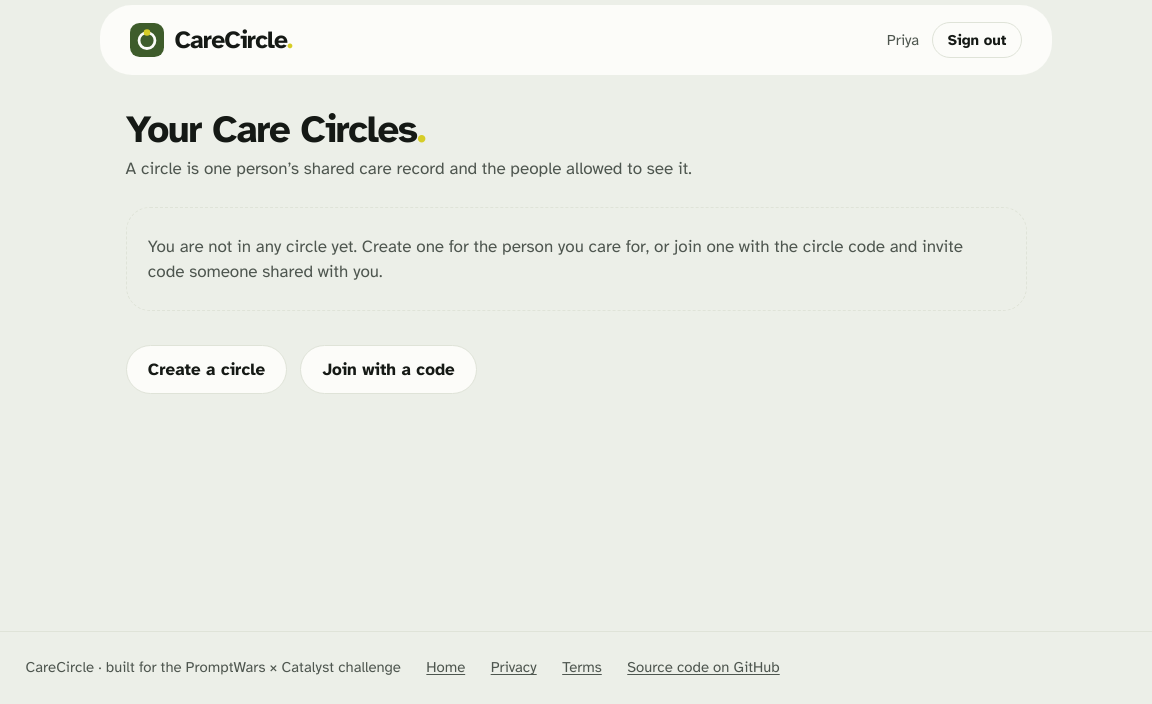
Your Care Circles › a refused join shows the reason and stays on the page
The image size is (1152, 704).
Click the button "Join with a code": (389, 369) [300,345,477,394]
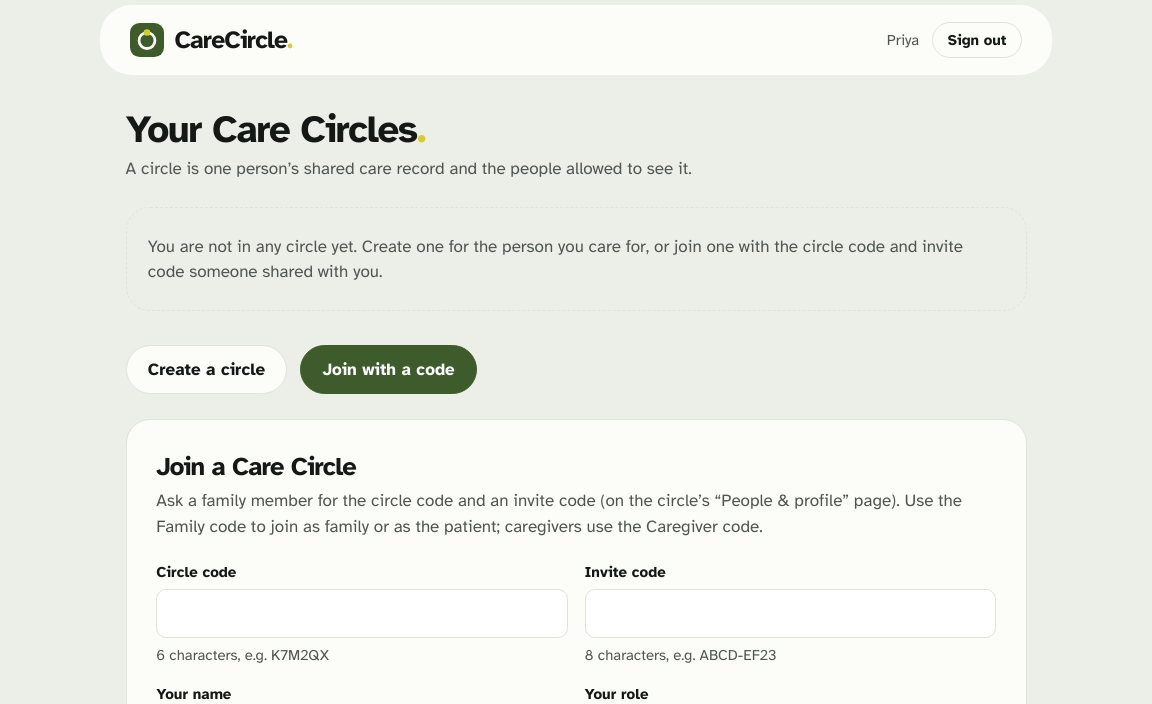
In the field labelled "Circle code": (362, 614) [156,589,568,638], type "X"
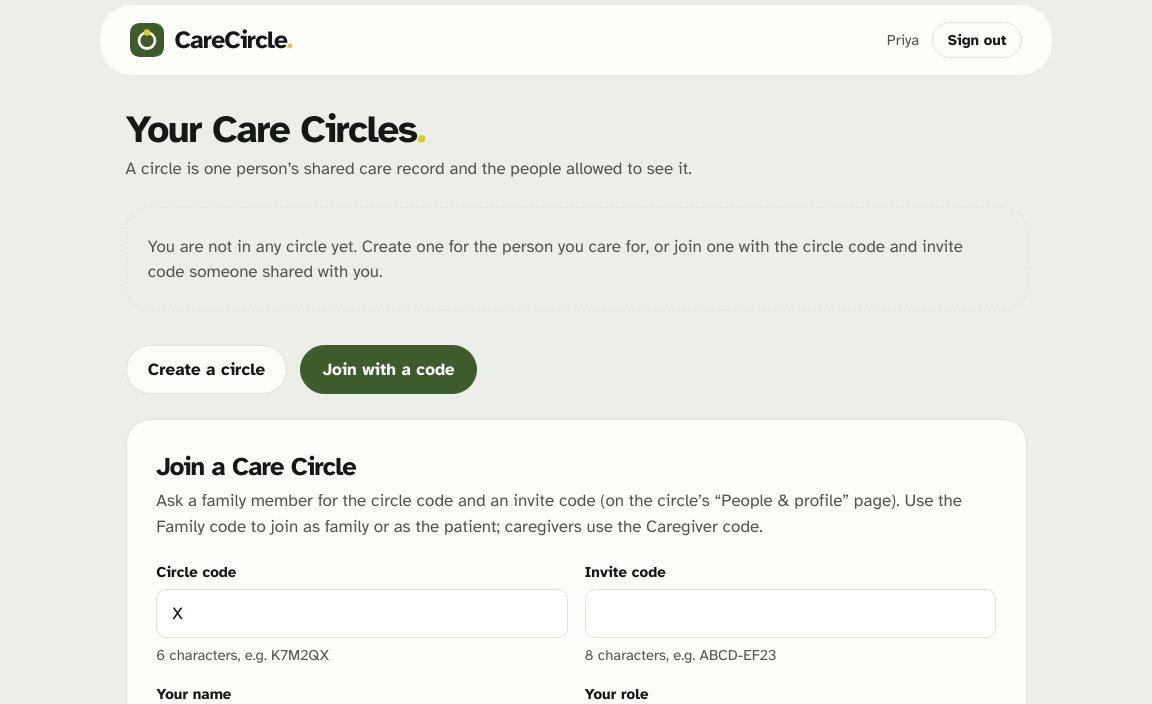
In the field labelled "Invite code": (790, 614) [584,589,996,638], type "Y"
(page scrolled)
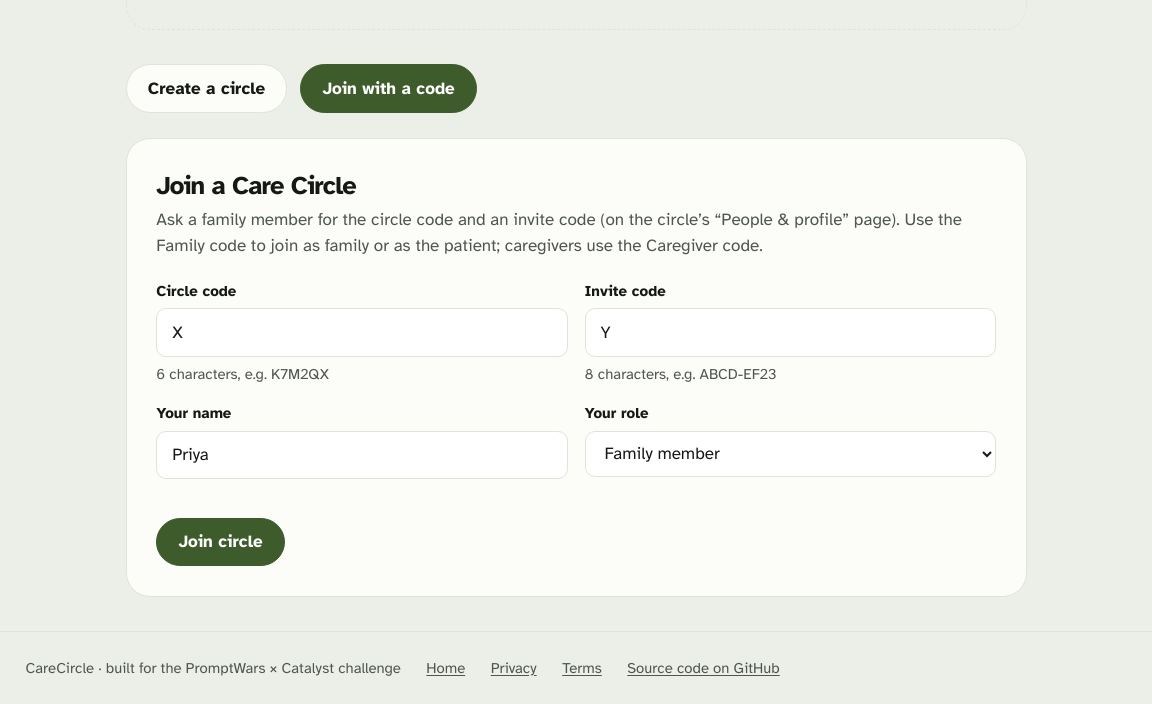
Click the button "Join circle": (221, 542) [156,518,285,566]
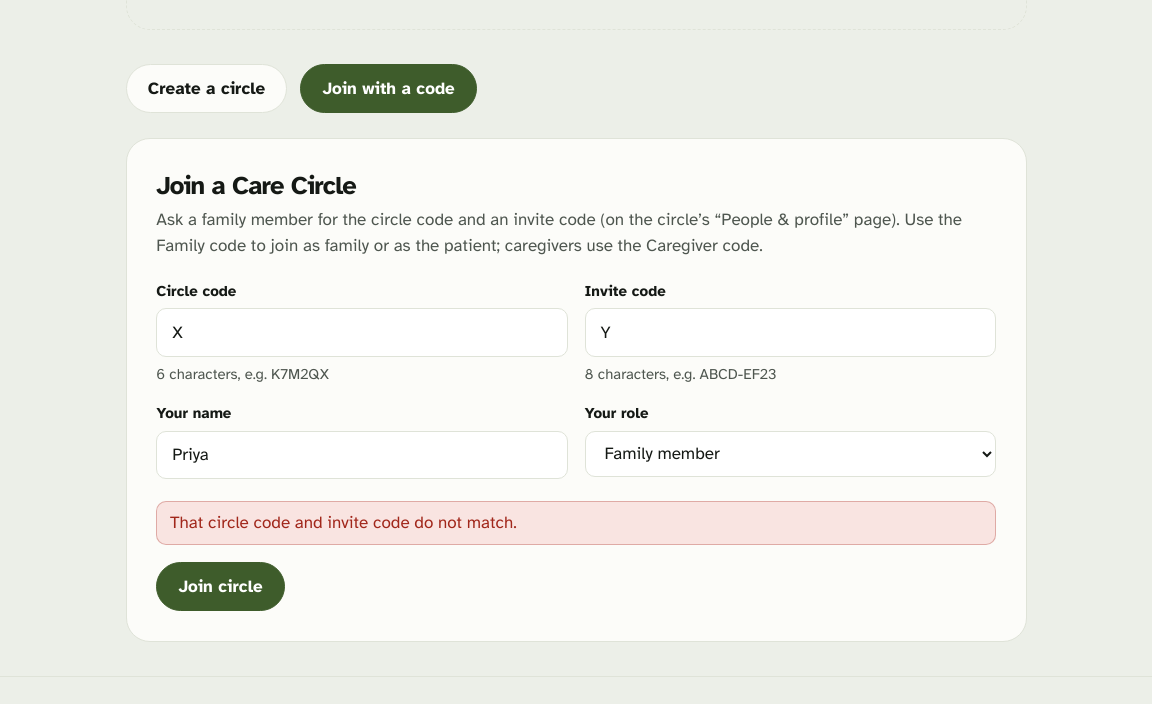
Now the message shows "do not match", box [170,512,517,533]
